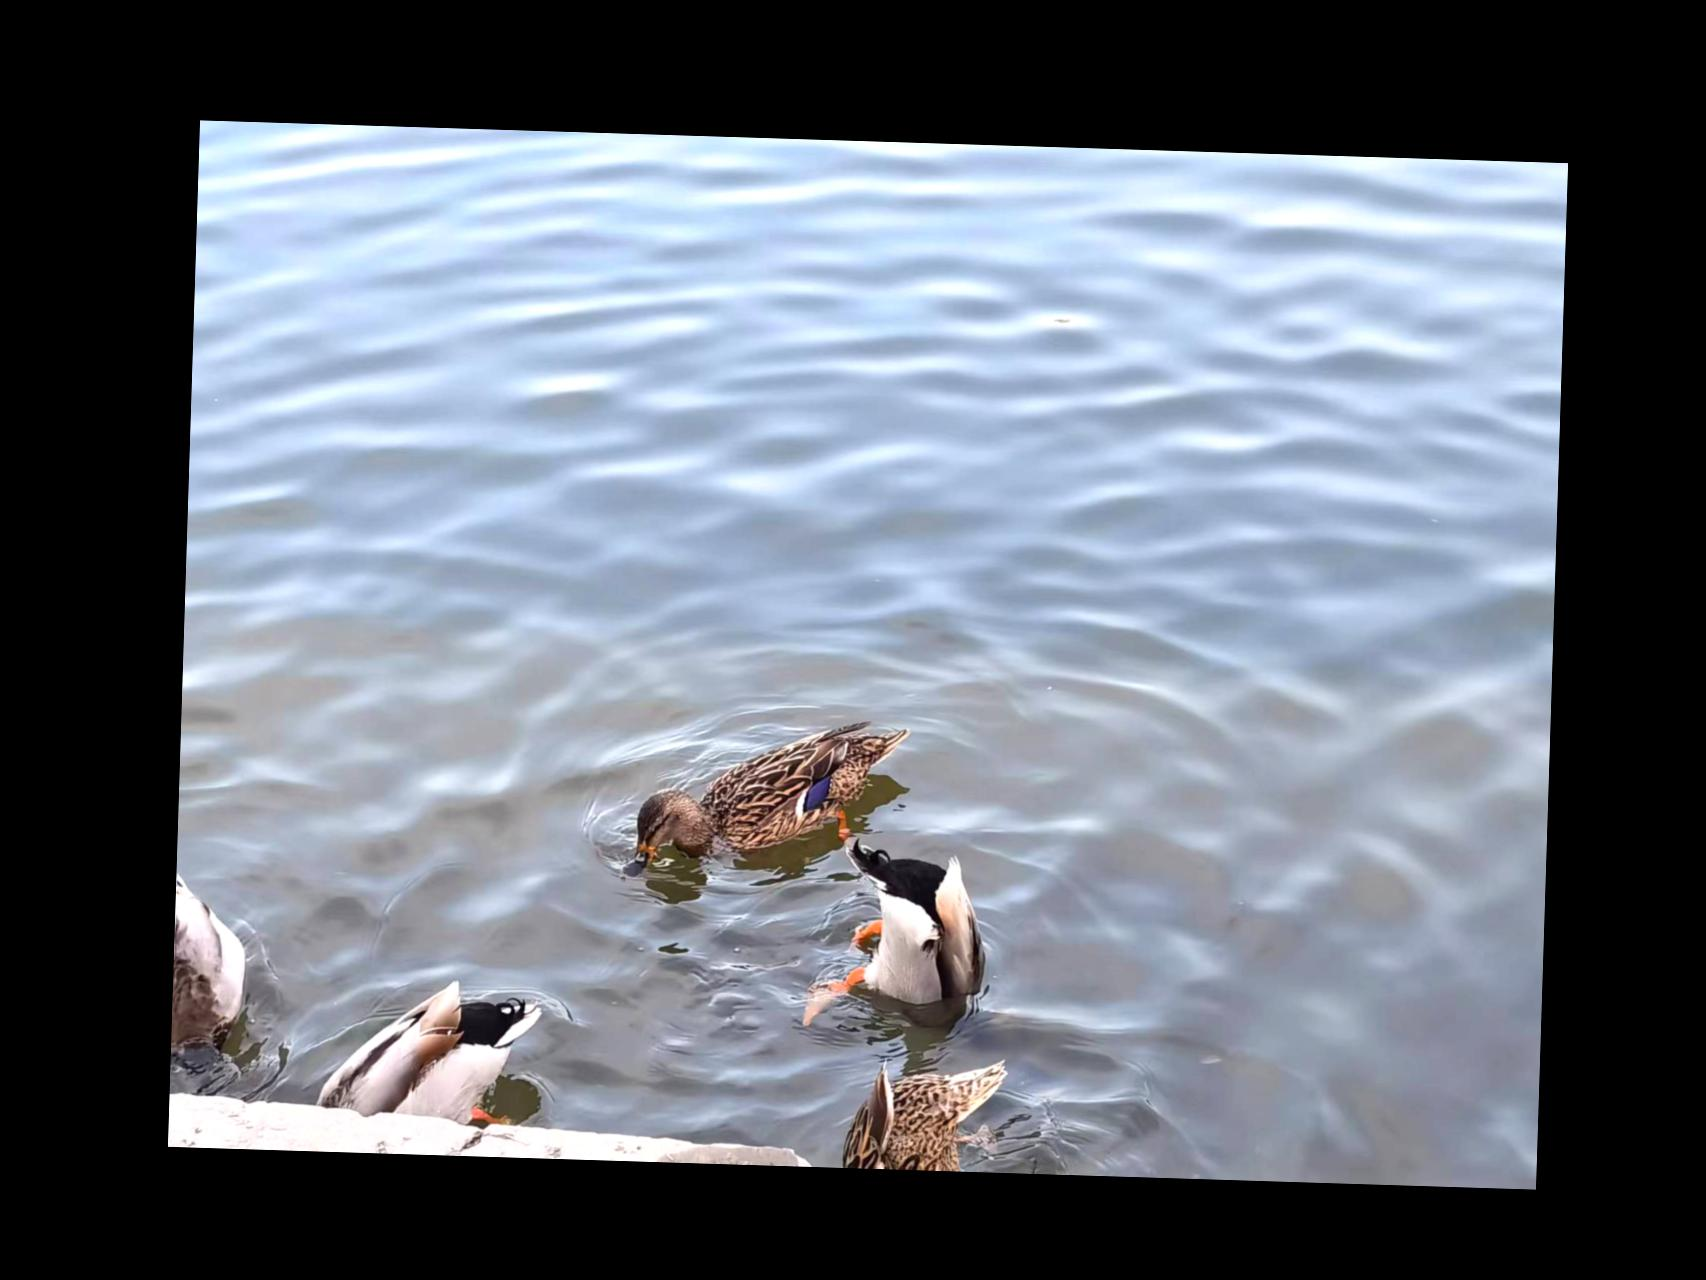duck: (622, 701, 920, 895), (803, 820, 1014, 1034), (317, 976, 554, 1121), (846, 1042, 1023, 1172), (169, 861, 259, 1070)
